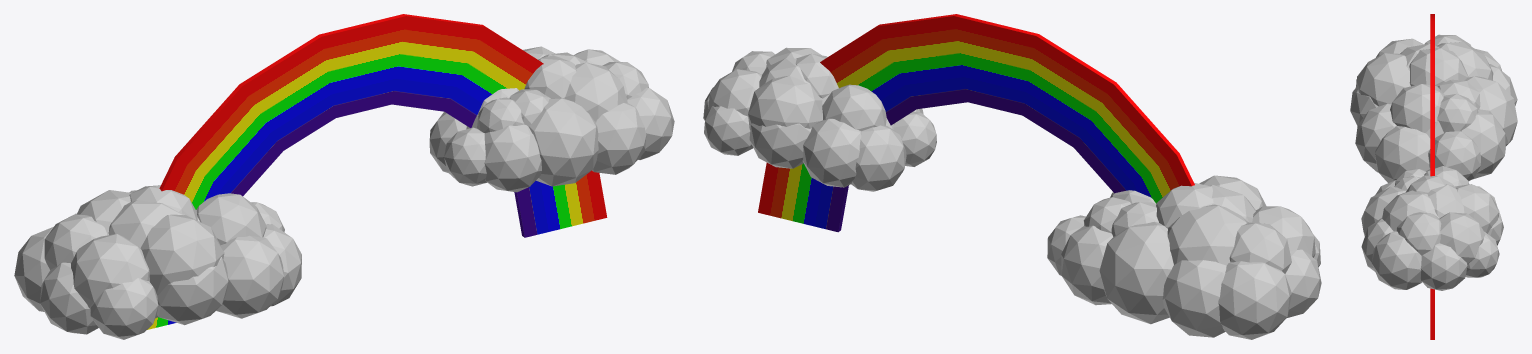
File: rainbow.fbx
The picture shows the model from 3 angles, left to right: view 1: azimuth 30°, elevation 25°; view 2: azimuth 150°, elevation 25°; view 3: azimuth 270°, elevation 25°; orthographic projection. The views are drawn at different scales.
Parts seen in each view (by area): view 1: Cylinder001, Икосфера, Икосфера.034, Икосфера.026, Икосфера.035, Икосфера.010, Икосфера.028, Икосфера.027, Икосфера.009, Икосфера.024, Икосфера.033, Икосфера.017 (+13 smaller); view 2: Cylinder001, Икосфера001, Икосфера.029, Икосфера.030, Икосфера.038, Икосфера.005, Икосфера.013, Икосфера.031, Икосфера.019, Икосфера.012, Икосфера.037, Икосфера.006 (+15 smaller); view 3: Икосфера.040, Икосфера.008, Икосфера.034, Икосфера.033, Икосфера.041, Икосфера.003, Икосфера.031, Икосфера.014, Икосфера001, Икосфера.039, Икосфера.026, Икосфера.016 (+21 smaller).
Part boxes in pixels (x1=…): Cylinder001: x1=147, y1=14, x2=607, y2=329; Икосфера: x1=528, y1=98, x2=598, y2=186; Икосфера.034: x1=140, y1=214, x2=224, y2=294; Икосфера.026: x1=216, y1=235, x2=283, y2=318; Икосфера.035: x1=71, y1=234, x2=149, y2=308; Икосфера.010: x1=484, y1=124, x2=541, y2=192; Икосфера.028: x1=90, y1=278, x2=158, y2=339; Икосфера.027: x1=157, y1=257, x2=228, y2=325; Икосфера.009: x1=592, y1=103, x2=646, y2=174; Икосфера.024: x1=40, y1=262, x2=98, y2=334; Икосфера.033: x1=196, y1=193, x2=266, y2=245; Икосфера.017: x1=565, y1=62, x2=627, y2=121; Cylinder001: x1=758, y1=14, x2=1194, y2=232; Икосфера001: x1=1099, y1=221, x2=1173, y2=324; Икосфера.029: x1=1218, y1=261, x2=1291, y2=339; Икосфера.030: x1=1162, y1=260, x2=1226, y2=337; Икосфера.038: x1=1167, y1=204, x2=1247, y2=265; Икосфера.005: x1=802, y1=118, x2=861, y2=187; Икосфера.013: x1=748, y1=75, x2=822, y2=129; Икосфера.031: x1=1061, y1=225, x2=1112, y2=305; Икосфера.019: x1=851, y1=125, x2=906, y2=191; Икосфера.012: x1=822, y1=84, x2=886, y2=131; Икосфера.037: x1=1229, y1=222, x2=1291, y2=273; Икосфера.006: x1=749, y1=123, x2=811, y2=168; Икосфера.040: x1=1375, y1=126, x2=1430, y2=182; Икосфера.008: x1=1372, y1=230, x2=1421, y2=289; Икосфера.034: x1=1356, y1=53, x2=1410, y2=106; Икосфера.033: x1=1390, y1=84, x2=1444, y2=132; Икосфера.041: x1=1428, y1=131, x2=1480, y2=181; Икосфера.003: x1=1420, y1=243, x2=1467, y2=290; Икосфера.031: x1=1461, y1=109, x2=1505, y2=179; Икосфера.014: x1=1439, y1=212, x2=1485, y2=264; Икосфера001: x1=1464, y1=76, x2=1517, y2=145; Икосфера.039: x1=1409, y1=48, x2=1468, y2=86; Икосфера.026: x1=1355, y1=103, x2=1396, y2=172; Икосфера.016: x1=1396, y1=212, x2=1441, y2=255.
Bounding box in the file's own units: 126 × 49.24 × 36.47.
Materials: 2 (1 with a texture image).
